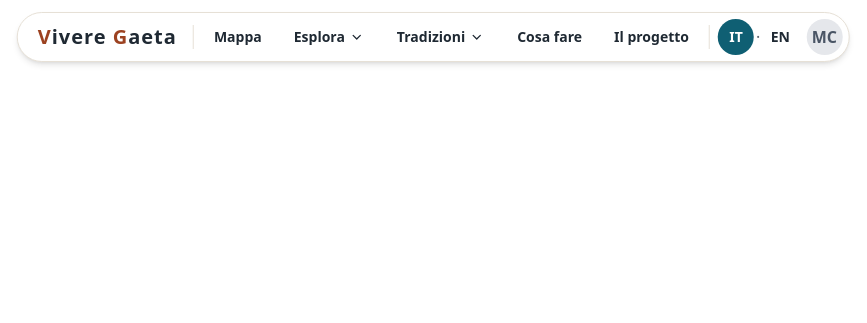
Test: the menu (spec/design.md D14) › puts a signed-in collaborator’s profile, the users and Esci behind the avatar
Expected: the text "Esci" is not shown
Click the button "MC" at {"x": 824, "y": 37}, box [806,19,842,55]
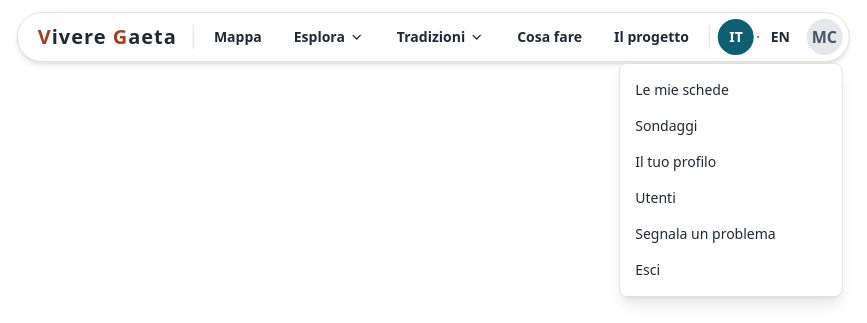
Expected: the link to "/profile/u1" is shown, [635,152,716,171]
Expected: the link to "/users" is shown, [635,188,676,207]
Expected: the text "Esci" is shown, [619,252,841,288]
